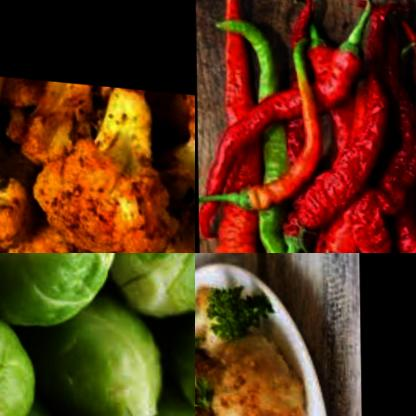brus capusta: (0, 253, 195, 416)
cayliflower: (0, 59, 195, 253), (195, 275, 310, 416)
hot pepper: (195, 0, 377, 214), (274, 29, 384, 253), (225, 29, 340, 221), (220, 7, 297, 253), (352, 4, 416, 253), (198, 0, 249, 253)
